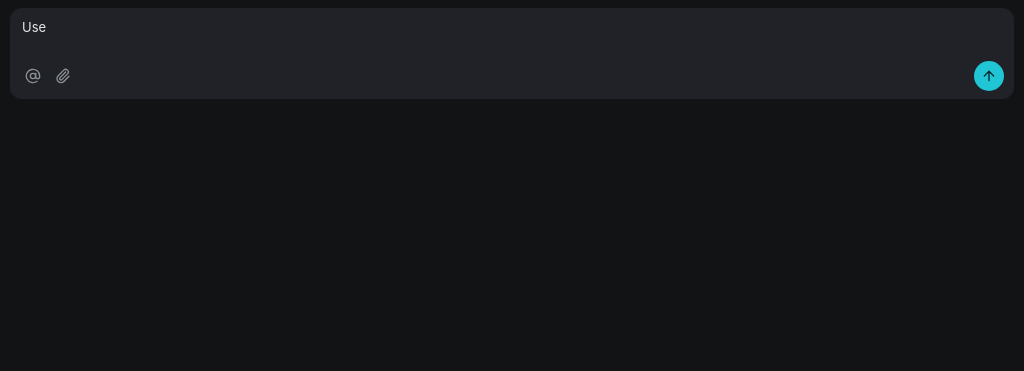
Test: Composer › attach opens the Media tab in attach mode, and a pick mentions the media
This screenshot has width=1024, height=371.
Click the button named "Attach media". click: (63, 76)
box: [50,63,76,89]
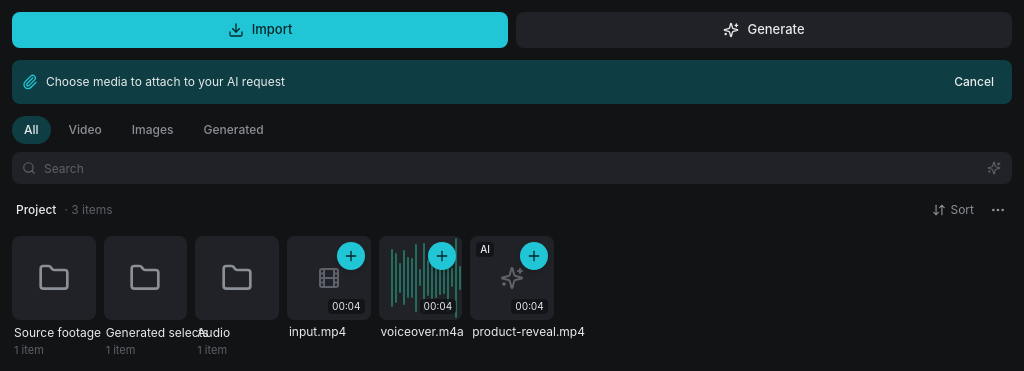
Expected: the element named "Attach mode" is shown, [12,60,1012,104]
Click the button with aria-label "Attach input.mp4". click: (329, 288)
box: [287,236,370,340]
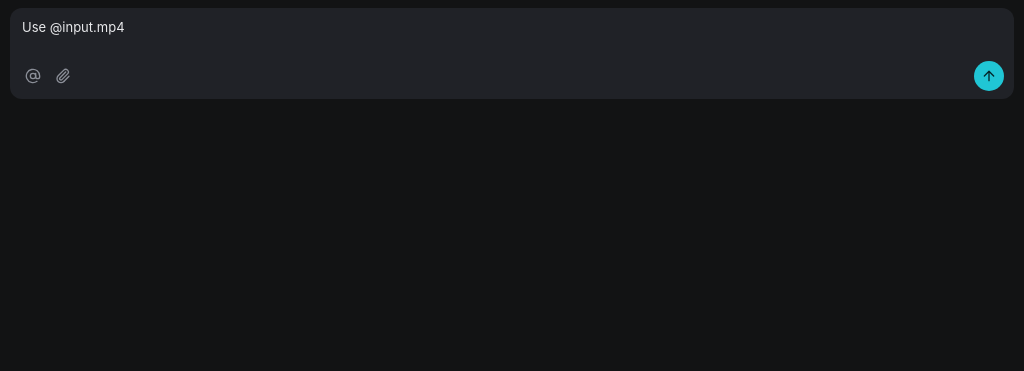
Expected: the text box named "Describe an edit" holds "Use @input.mp4 ", [20,18,1004,57]
